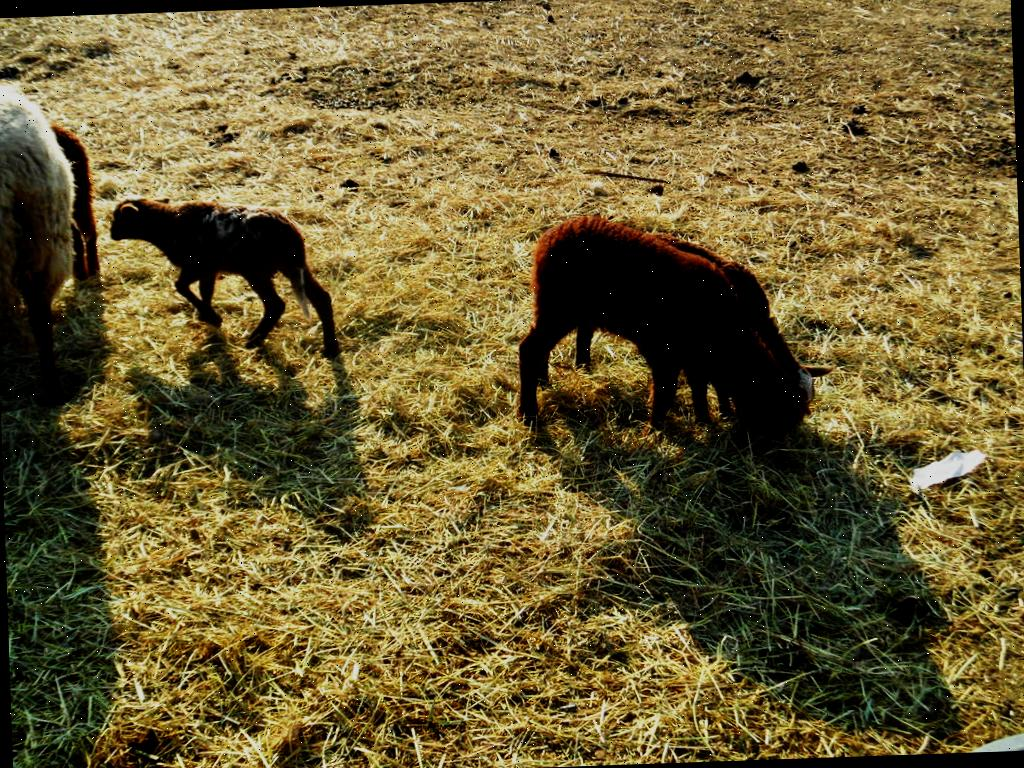Sheep: (512, 210, 807, 480), (104, 194, 340, 367), (0, 67, 86, 406)
